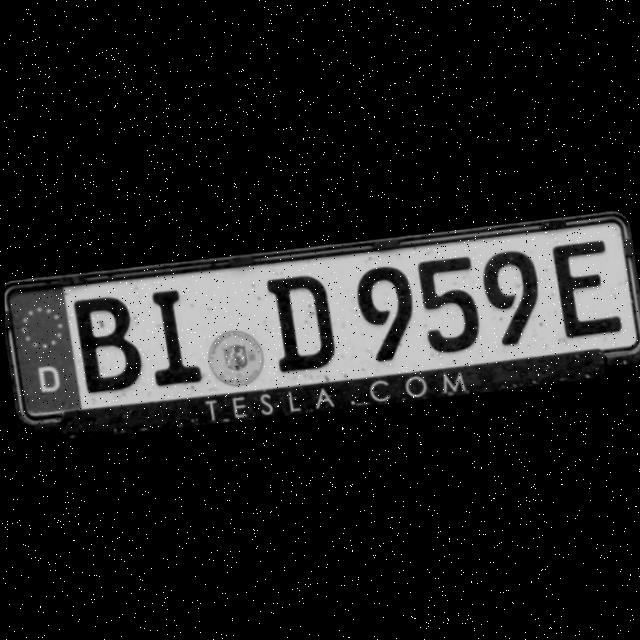license-plates: (7, 222, 640, 418)
